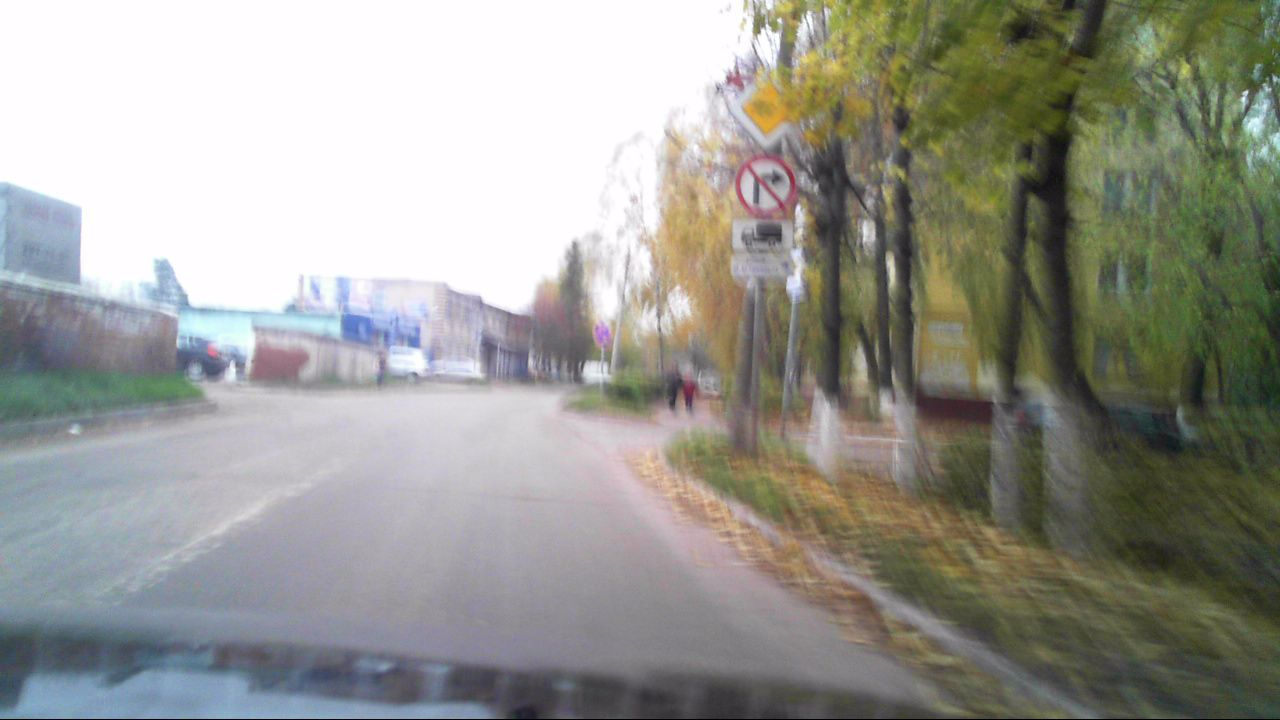No Parking: (592, 326, 610, 349)
